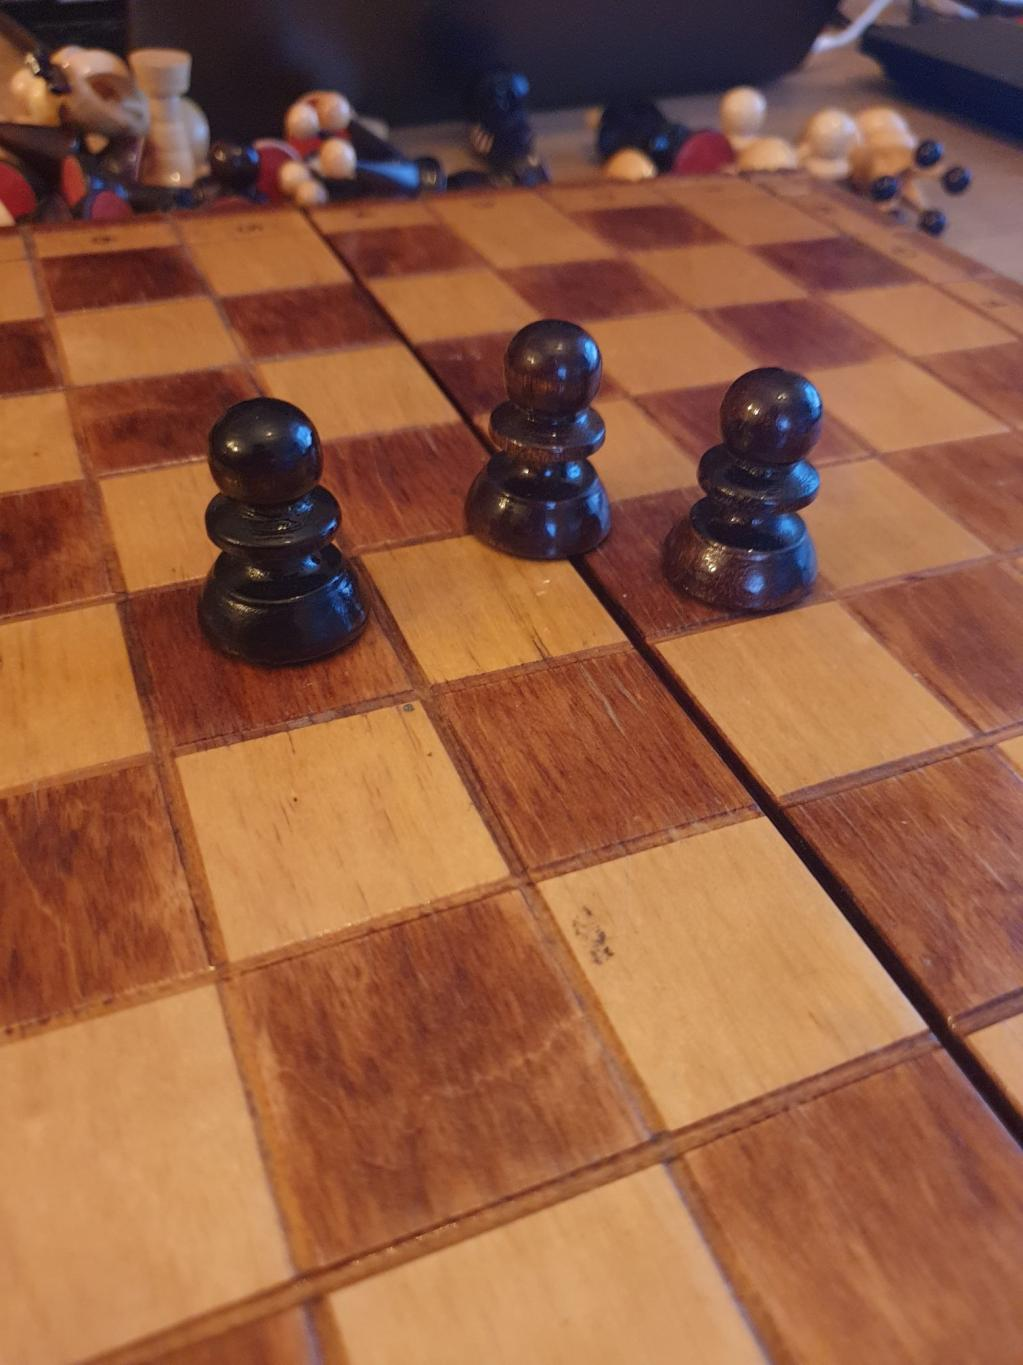bpawn: (196, 399, 368, 670), (660, 367, 822, 619), (465, 316, 614, 565)
